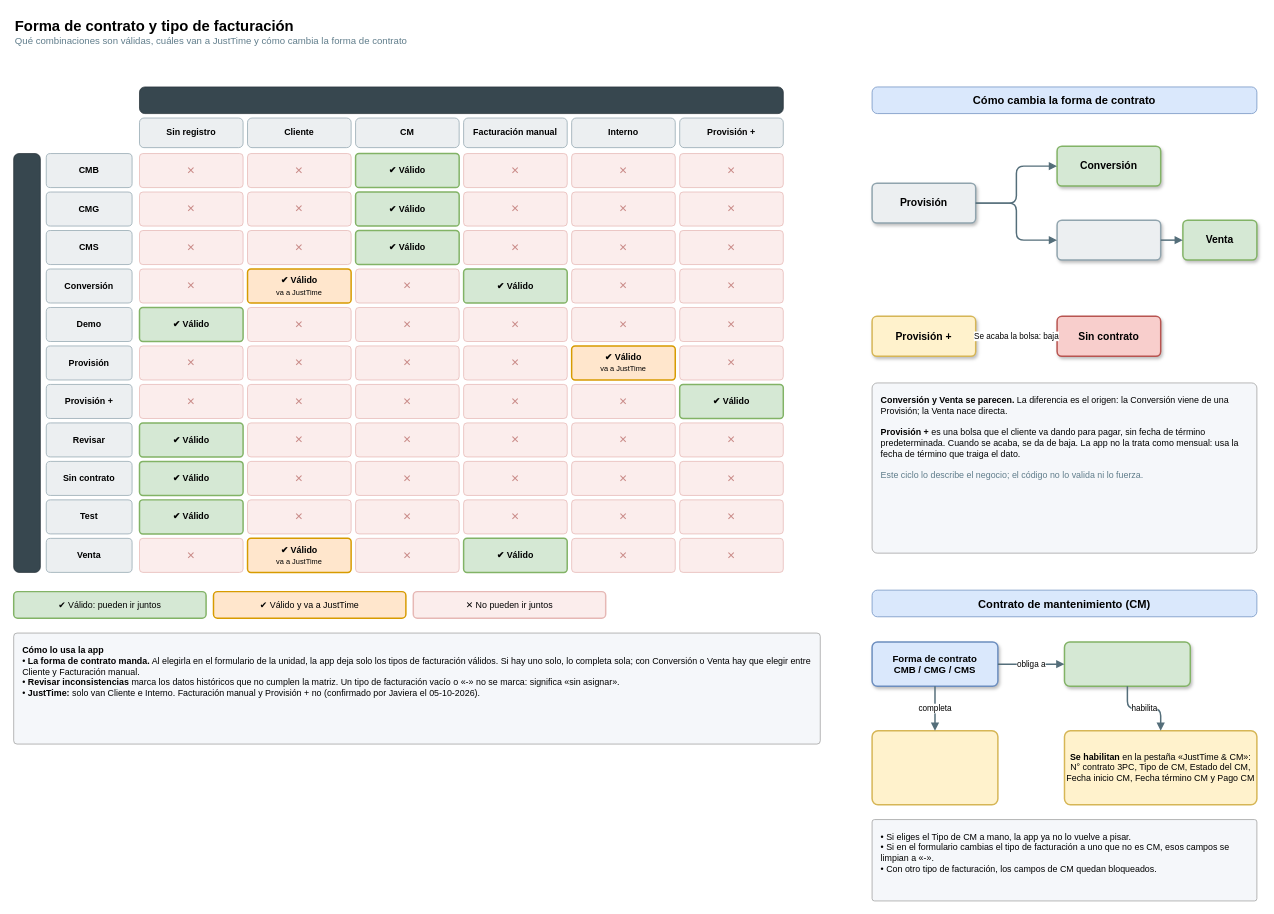
This 1274x914 diagram has some shape labels left out. Here are the shapes that lost their labels. From the top down, the centre of each, then its label:
At point 461,100: "TIPO DE FACTURACIÓN".
At point 1109,241: "CMB / CMG / CMS".
At point 26,362: "FORMA DE CONTRATO".
At point 1127,665: "Tipo de facturación es CM".
At point 934,767: "Tipo de CM se completa solo: CMB → Blue CMG → Gold CMS → Silver".
